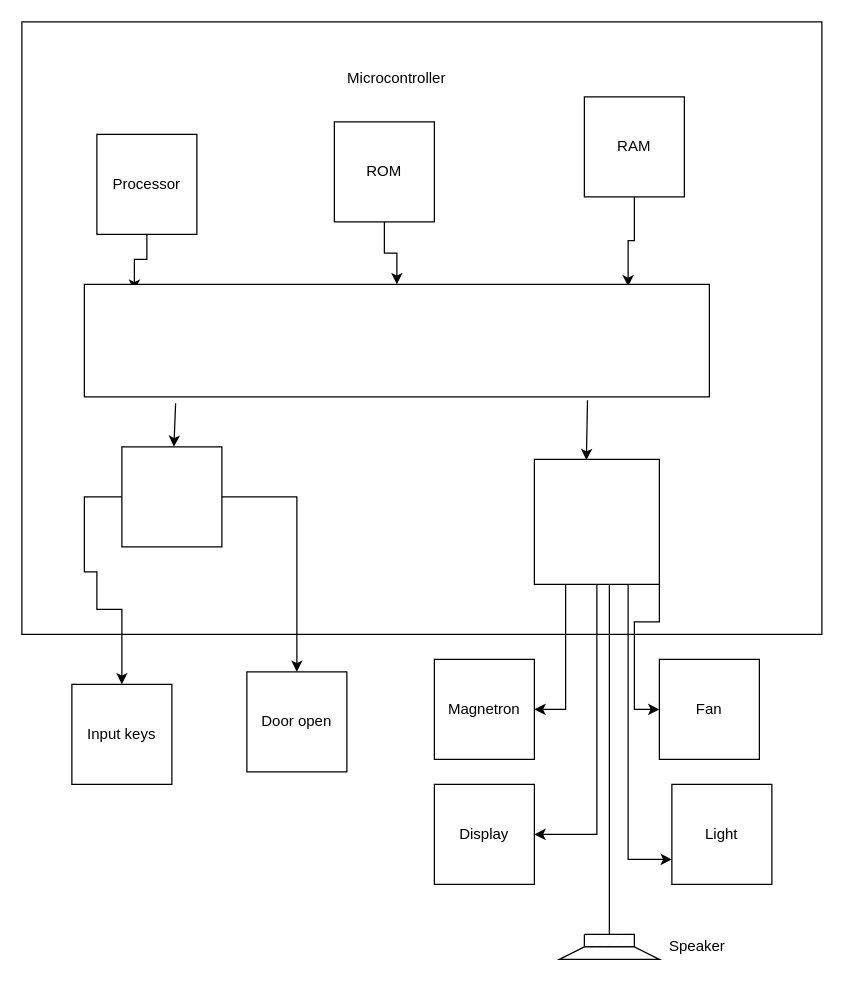
Image size: 844x981. Some labels were removed from this diagram. The centre of each missing label's shape, as x and y in pixels:
Input interface: [171,496]
Interconnection network: [396,340]
Output interface: [596,521]
